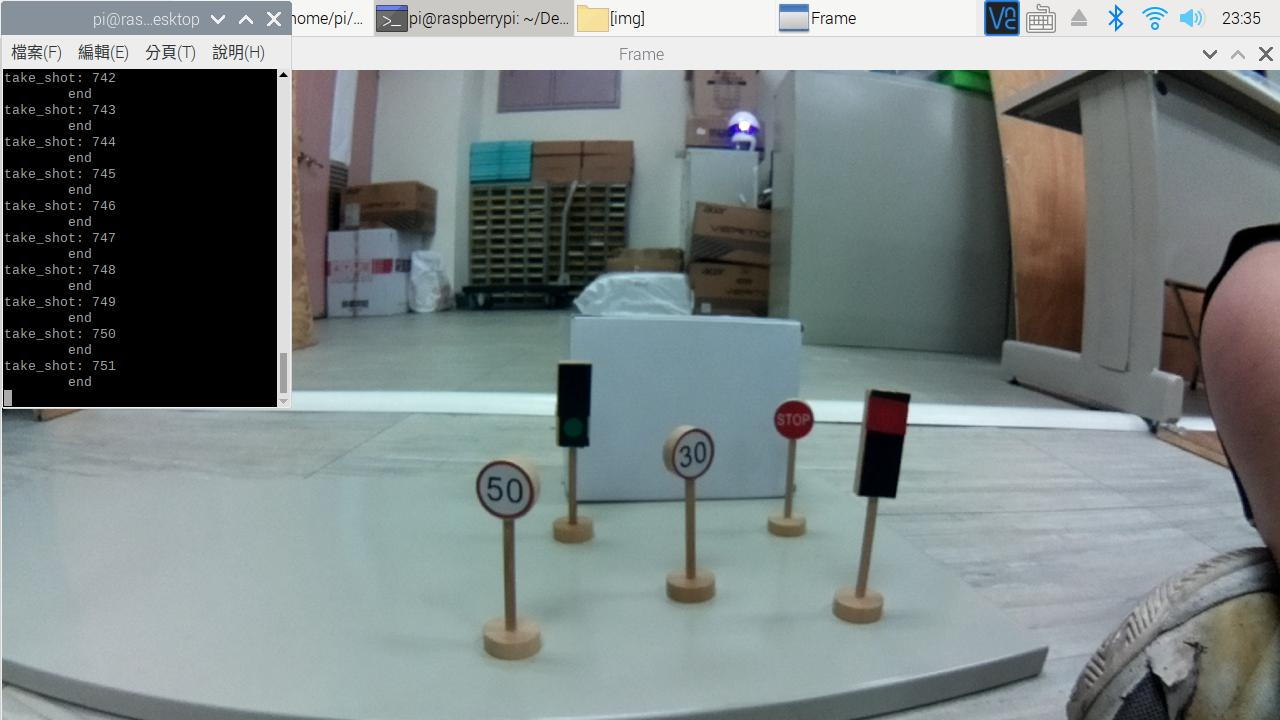Green: (546, 355, 608, 468)
Red: (838, 382, 926, 521)
Speed30: (656, 425, 721, 487)
Speed50: (472, 457, 543, 533)
Stop: (756, 387, 825, 455)
